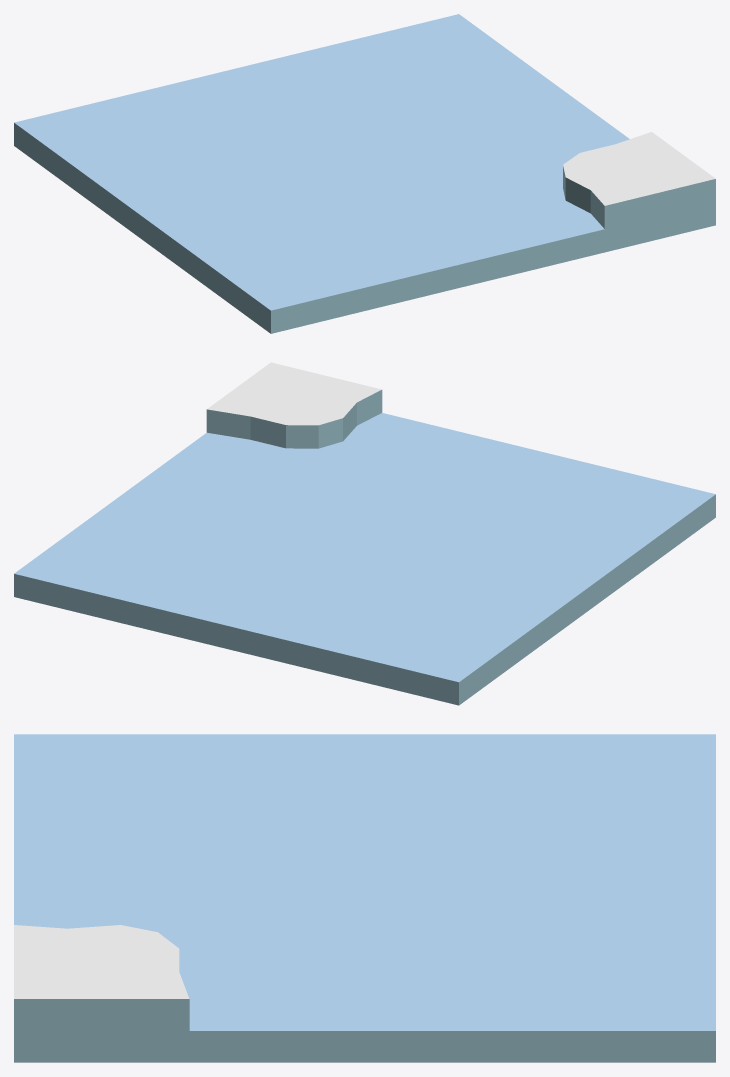
The model's file is Terrain_Modular_Tiles_Snow_Ice_Water_Edge_Corner_Inner_02.fbx.
The picture shows the model from 3 angles, top to bottom: view 1: azimuth 30°, elevation 25°; view 2: azimuth 150°, elevation 25°; view 3: azimuth 270°, elevation 25°; orthographic projection. The views are drawn at different scales.
Visible parts, largest first — view 1: Terrain_Modular_Tiles_Snow_Ice_Water_Edge_Corner_Inner_02; view 2: Terrain_Modular_Tiles_Snow_Ice_Water_Edge_Corner_Inner_02; view 3: Terrain_Modular_Tiles_Snow_Ice_Water_Edge_Corner_Inner_02.
Boxes of the visible parts, x1=… form: Terrain_Modular_Tiles_Snow_Ice_Water_Edge_Corner_Inner_02: x1=14, y1=14, x2=715, y2=333; Terrain_Modular_Tiles_Snow_Ice_Water_Edge_Corner_Inner_02: x1=14, y1=362, x2=715, y2=705; Terrain_Modular_Tiles_Snow_Ice_Water_Edge_Corner_Inner_02: x1=14, y1=734, x2=715, y2=1062.
Size of the model in its own units: 118 by 11.81 by 118.
